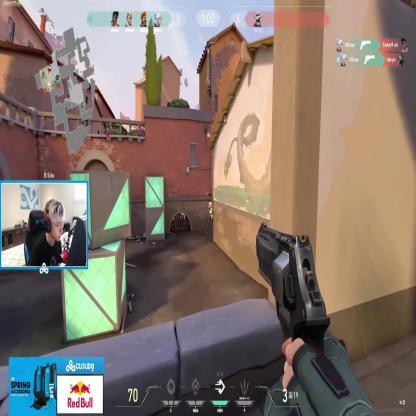enemy: (208, 201, 214, 227)
enemy_head: (209, 202, 211, 206)
